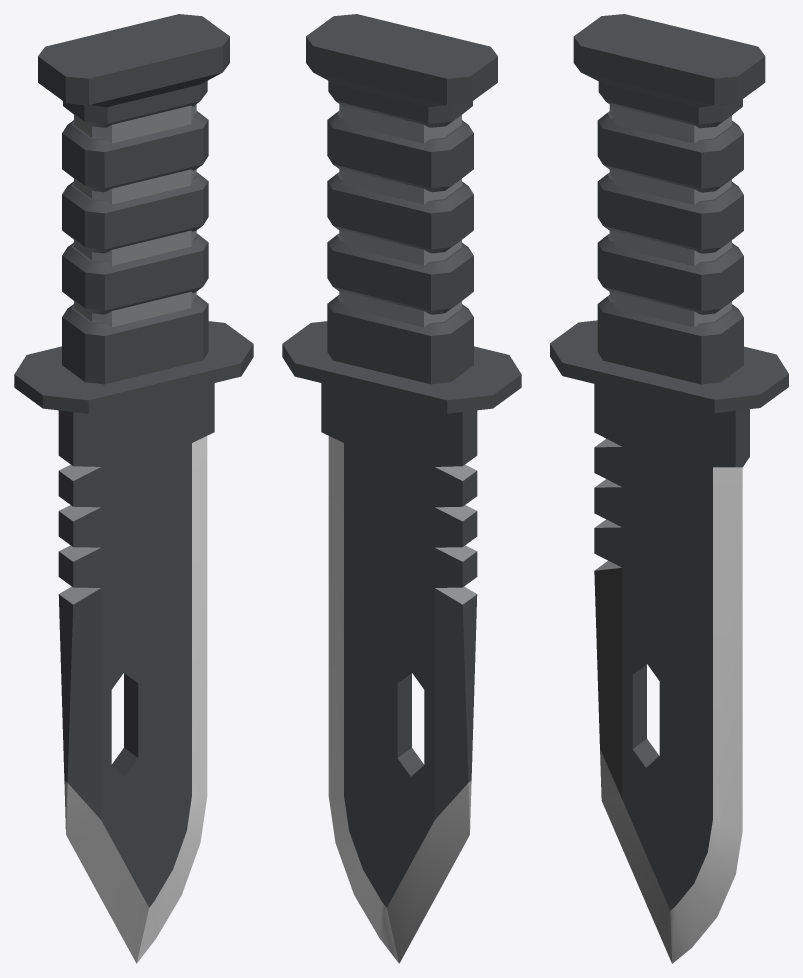
Rendered from Cutter_M_knife.001.fbx.
The picture shows the model from 3 angles, left to right: view 1: azimuth 30°, elevation 25°; view 2: azimuth 150°, elevation 25°; view 3: azimuth 330°, elevation 25°; orthographic projection.
Visible parts, largest first — view 1: Cutter_M_knife.001; view 2: Cutter_M_knife.001; view 3: Cutter_M_knife.001.
Part boxes in pixels (bbox=[...]): Cutter_M_knife.001: bbox=[14, 14, 253, 963]; Cutter_M_knife.001: bbox=[282, 14, 521, 963]; Cutter_M_knife.001: bbox=[550, 14, 788, 963].
Size of the model in its own units: 1.5 by 6.24 by 0.7657.
